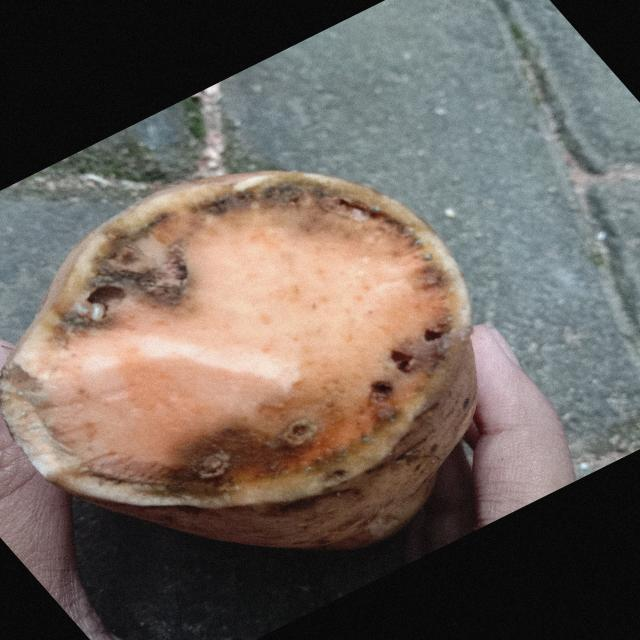Sick Sweet Potato_Tuber Rot: (3, 171, 475, 548)
